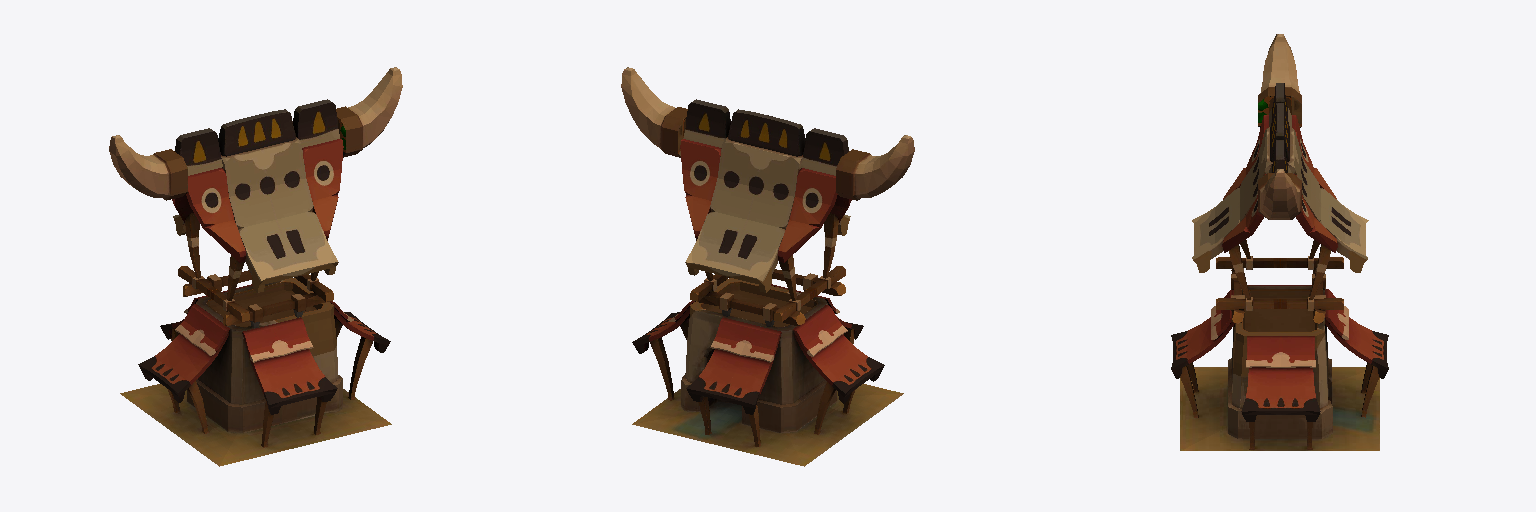
The picture shows the model from 3 angles: view 1: azimuth 30°, elevation 25°; view 2: azimuth 150°, elevation 25°; view 3: azimuth 270°, elevation 25°; orthographic projection.
Visible parts, largest first — view 1: BUD_Building_B_01, BUD_Building_B_02; view 2: BUD_Building_B_01, BUD_Building_B_02; view 3: BUD_Building_B_01, BUD_Building_B_02.
Boxes of the visible parts, box(x1,y1,x2,y2) form: BUD_Building_B_01: box(120, 99, 391, 466); BUD_Building_B_02: box(109, 67, 402, 200); BUD_Building_B_01: box(632, 99, 903, 466); BUD_Building_B_02: box(621, 67, 914, 200); BUD_Building_B_01: box(1171, 83, 1388, 450); BUD_Building_B_02: box(1258, 34, 1301, 219).
Bounding box in the file's own units: 5.97 × 6.16 × 3.93.
1 materials, 1 textured.